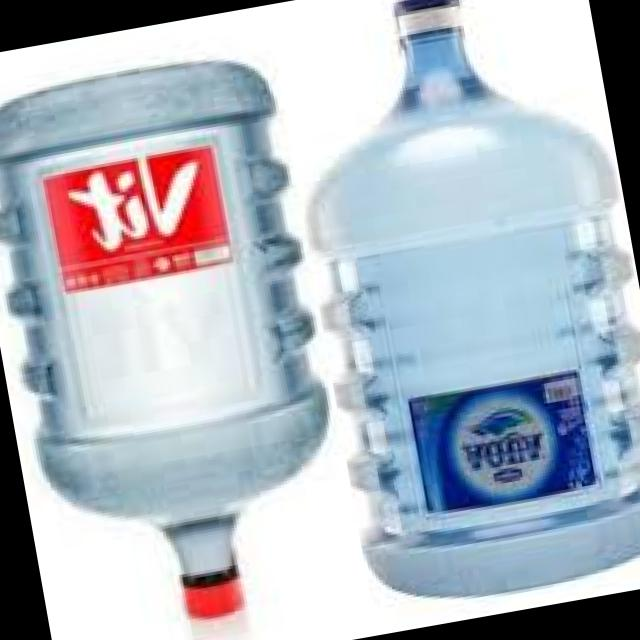Galon: (268, 0, 640, 615), (0, 39, 366, 640)
